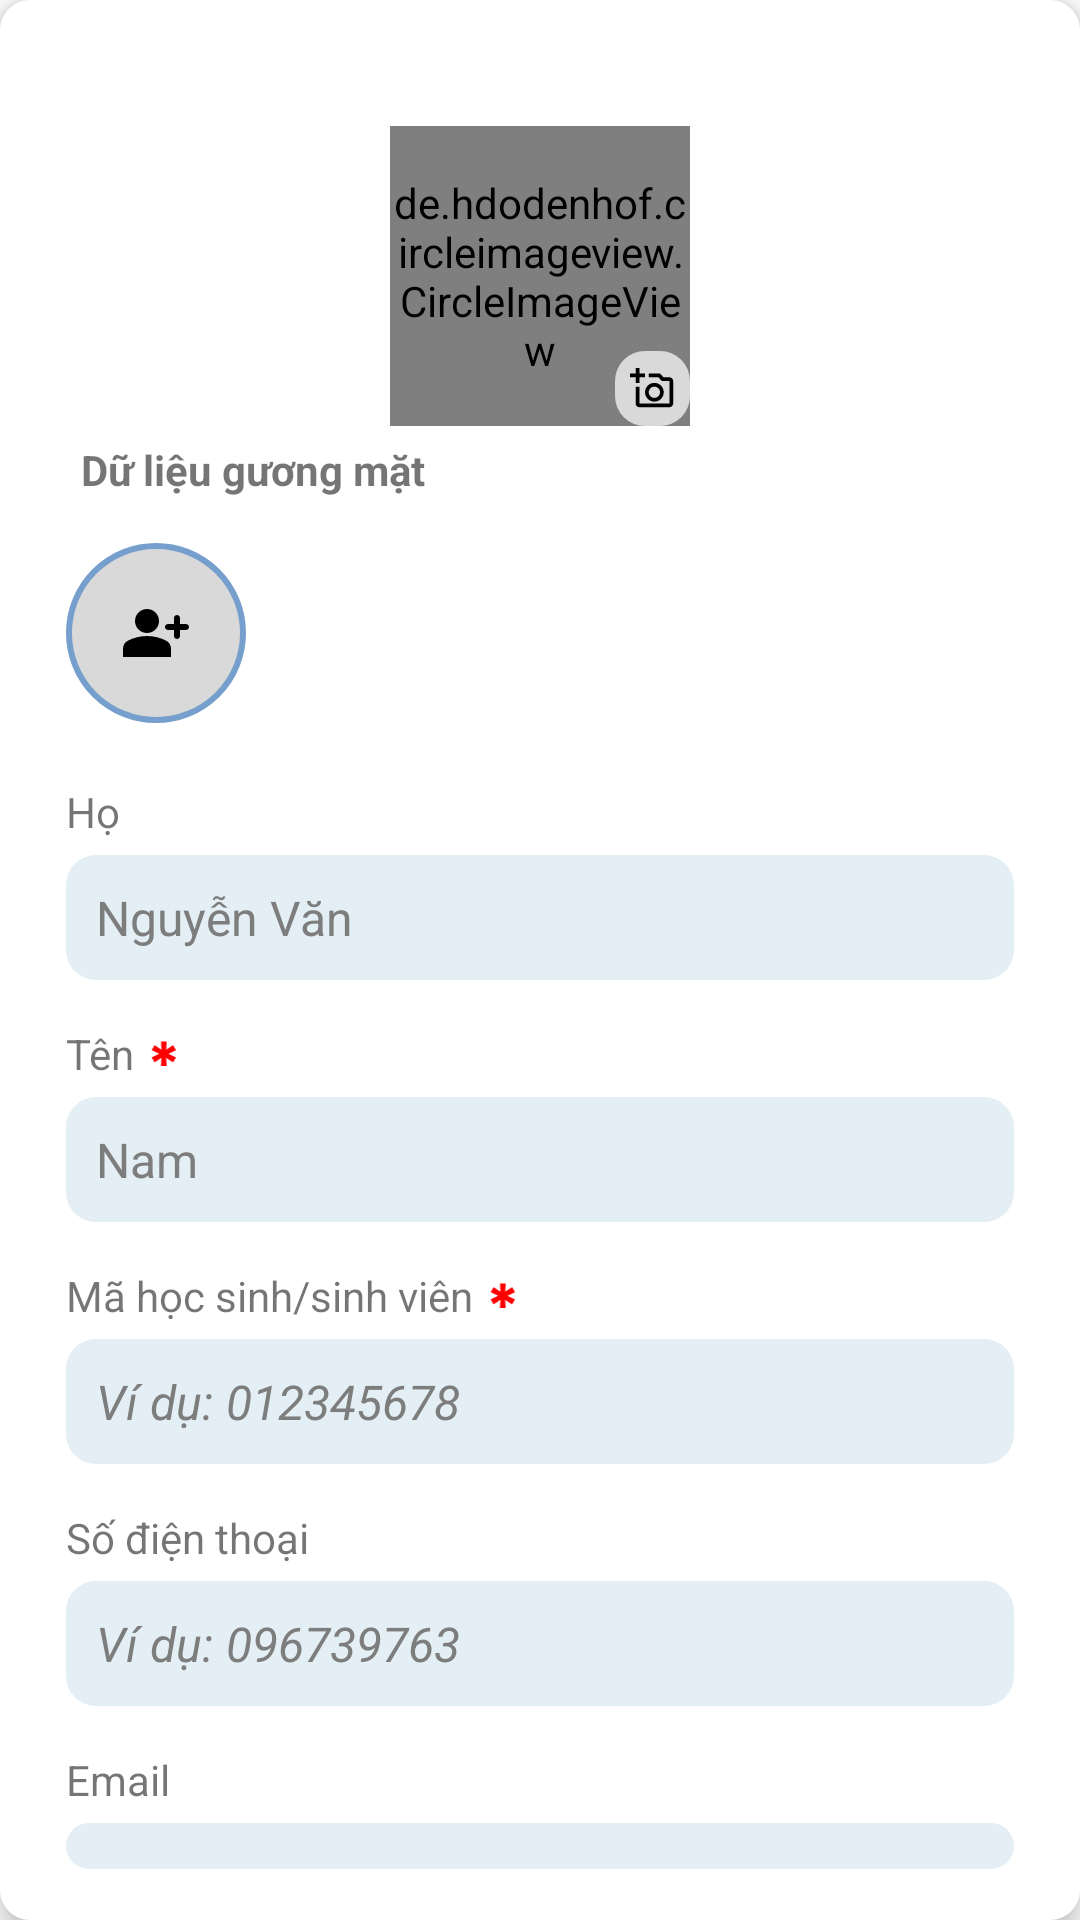

Point at icon controls on the screen. Image size 1080px x 1920px, points as (x,y).
camera add: (652,388)
must enter: (163,1053), (502,1295)
